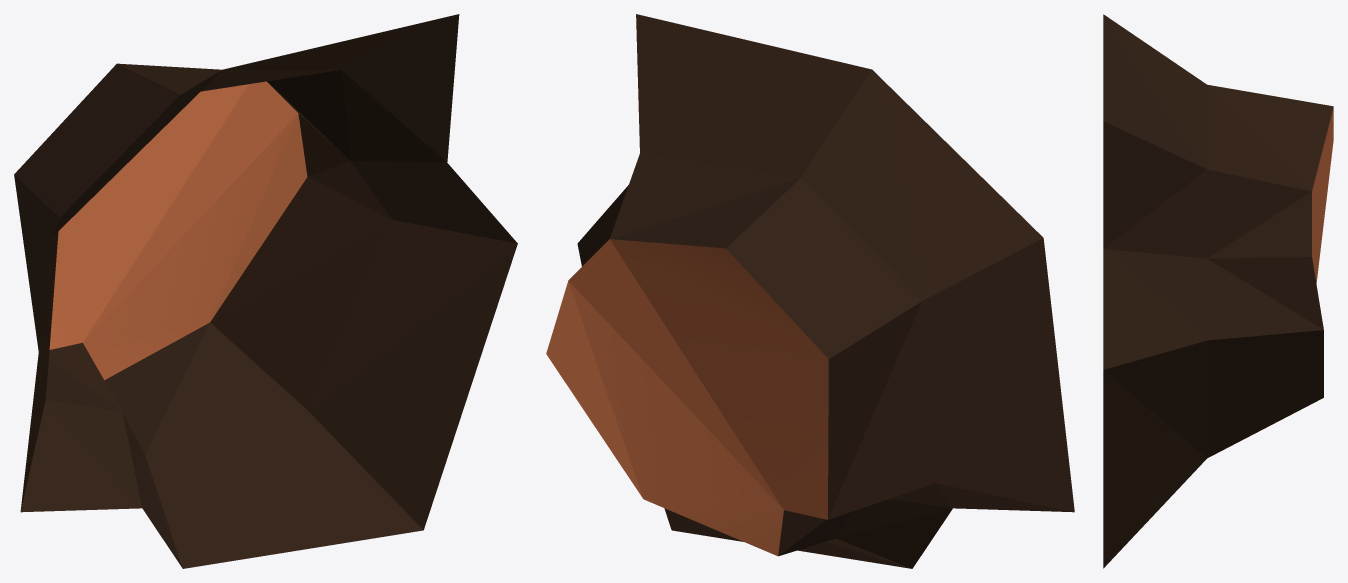
File: Stump_01.FBX
The picture shows the model from 3 angles, left to right: view 1: azimuth 30°, elevation 25°; view 2: azimuth 150°, elevation 25°; view 3: azimuth 270°, elevation 25°; orthographic projection. The views are drawn at different scales.
Visible parts, largest first — view 1: Stump_01; view 2: Stump_01; view 3: Stump_01.
Boxes of the visible parts, box(x1,y1,x2,y2) form: Stump_01: box(14, 14, 517, 568); Stump_01: box(546, 14, 1074, 568); Stump_01: box(1103, 14, 1333, 568).
Size of the model in its own units: 1.79 by 1.75 by 0.7859.
